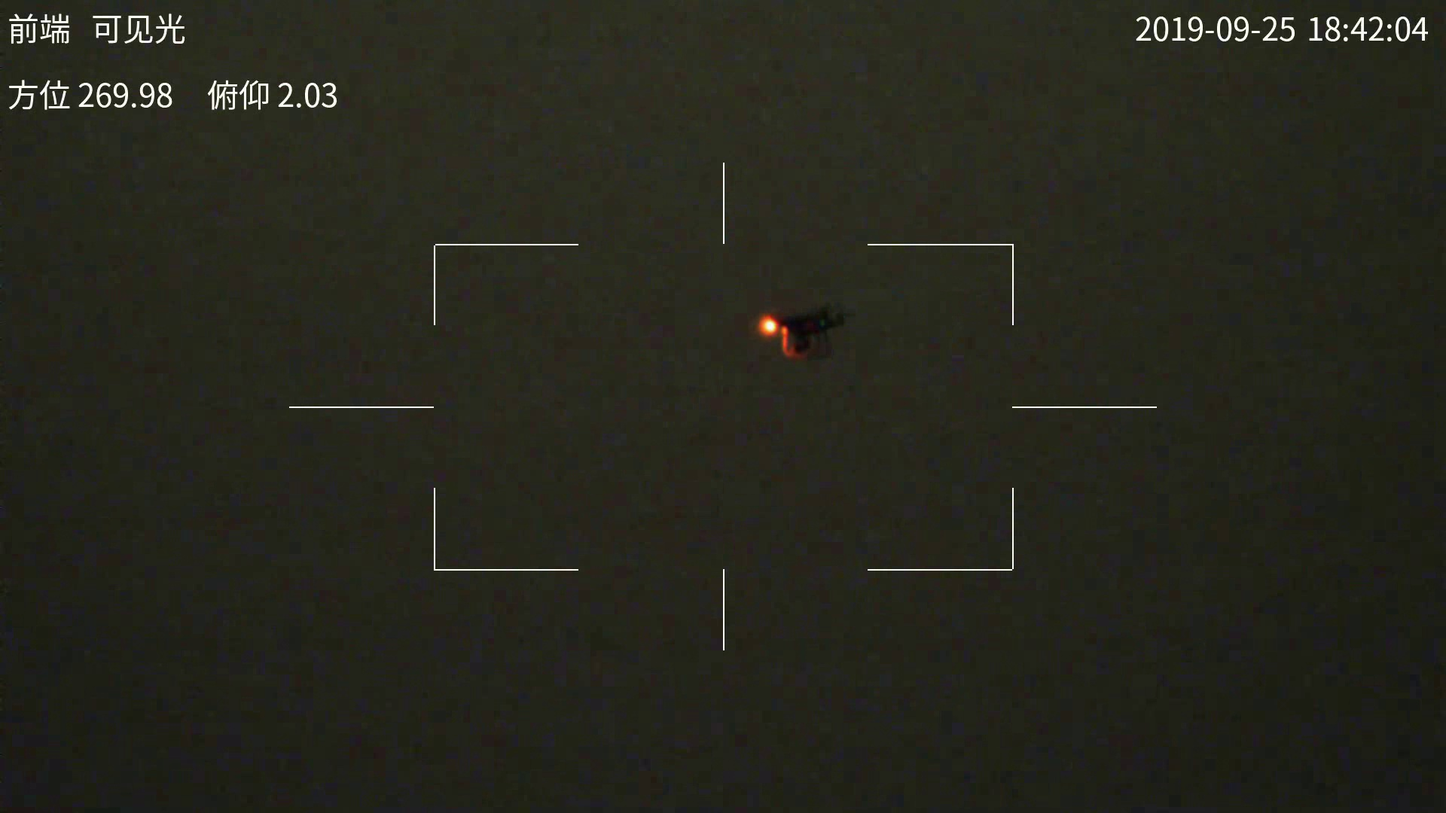drone: (749, 302, 857, 359)
